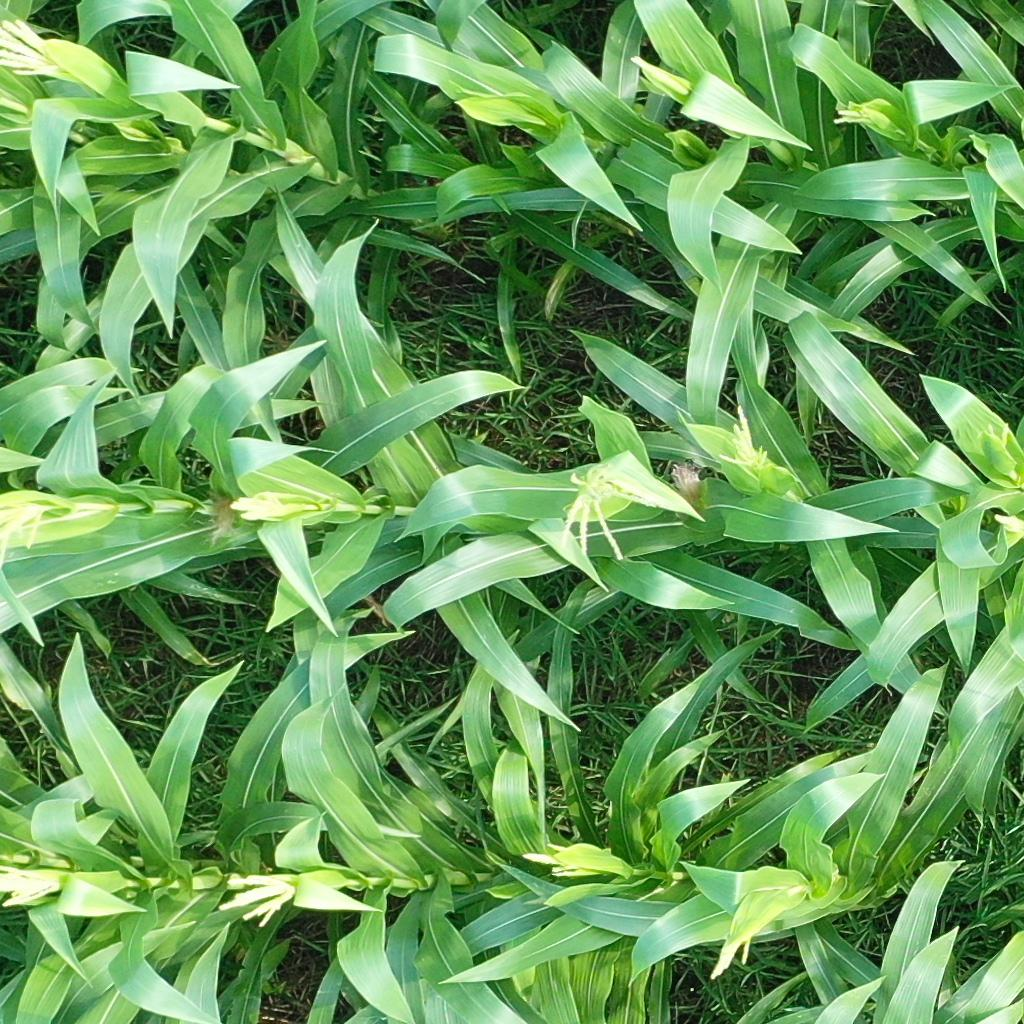Tassel: (559, 462, 665, 564), (211, 870, 304, 929), (1, 14, 72, 82), (714, 403, 780, 472), (1, 497, 52, 575), (1, 858, 65, 914), (702, 927, 754, 983), (227, 487, 296, 525), (519, 840, 583, 876), (626, 52, 676, 88), (835, 100, 875, 134), (993, 510, 1024, 536), (984, 420, 1010, 448)
